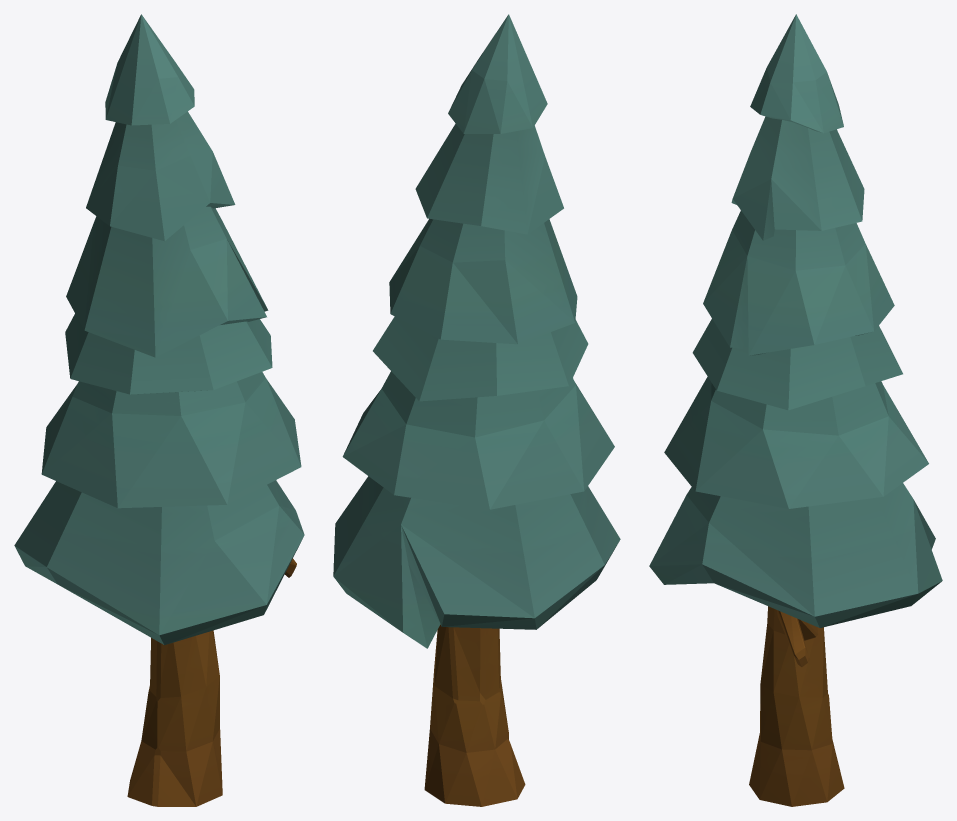
File: tree_fir_slim.glb
The picture shows the model from 3 angles, left to right: view 1: azimuth 30°, elevation 25°; view 2: azimuth 150°, elevation 25°; view 3: azimuth 270°, elevation 25°; orthographic projection. The views are drawn at different scales.
Parts seen in each view (by area): view 1: Tree_7_AA; view 2: Tree_7_AA; view 3: Tree_7_AA.
Boxes of the visible parts, x1,y1,x2,y2 form: Tree_7_AA: [14, 14, 304, 806]; Tree_7_AA: [333, 14, 620, 806]; Tree_7_AA: [649, 14, 942, 806].
Bounding box in the file's own units: 1.3 × 3.75 × 1.32.
1 material, 1 textured.
